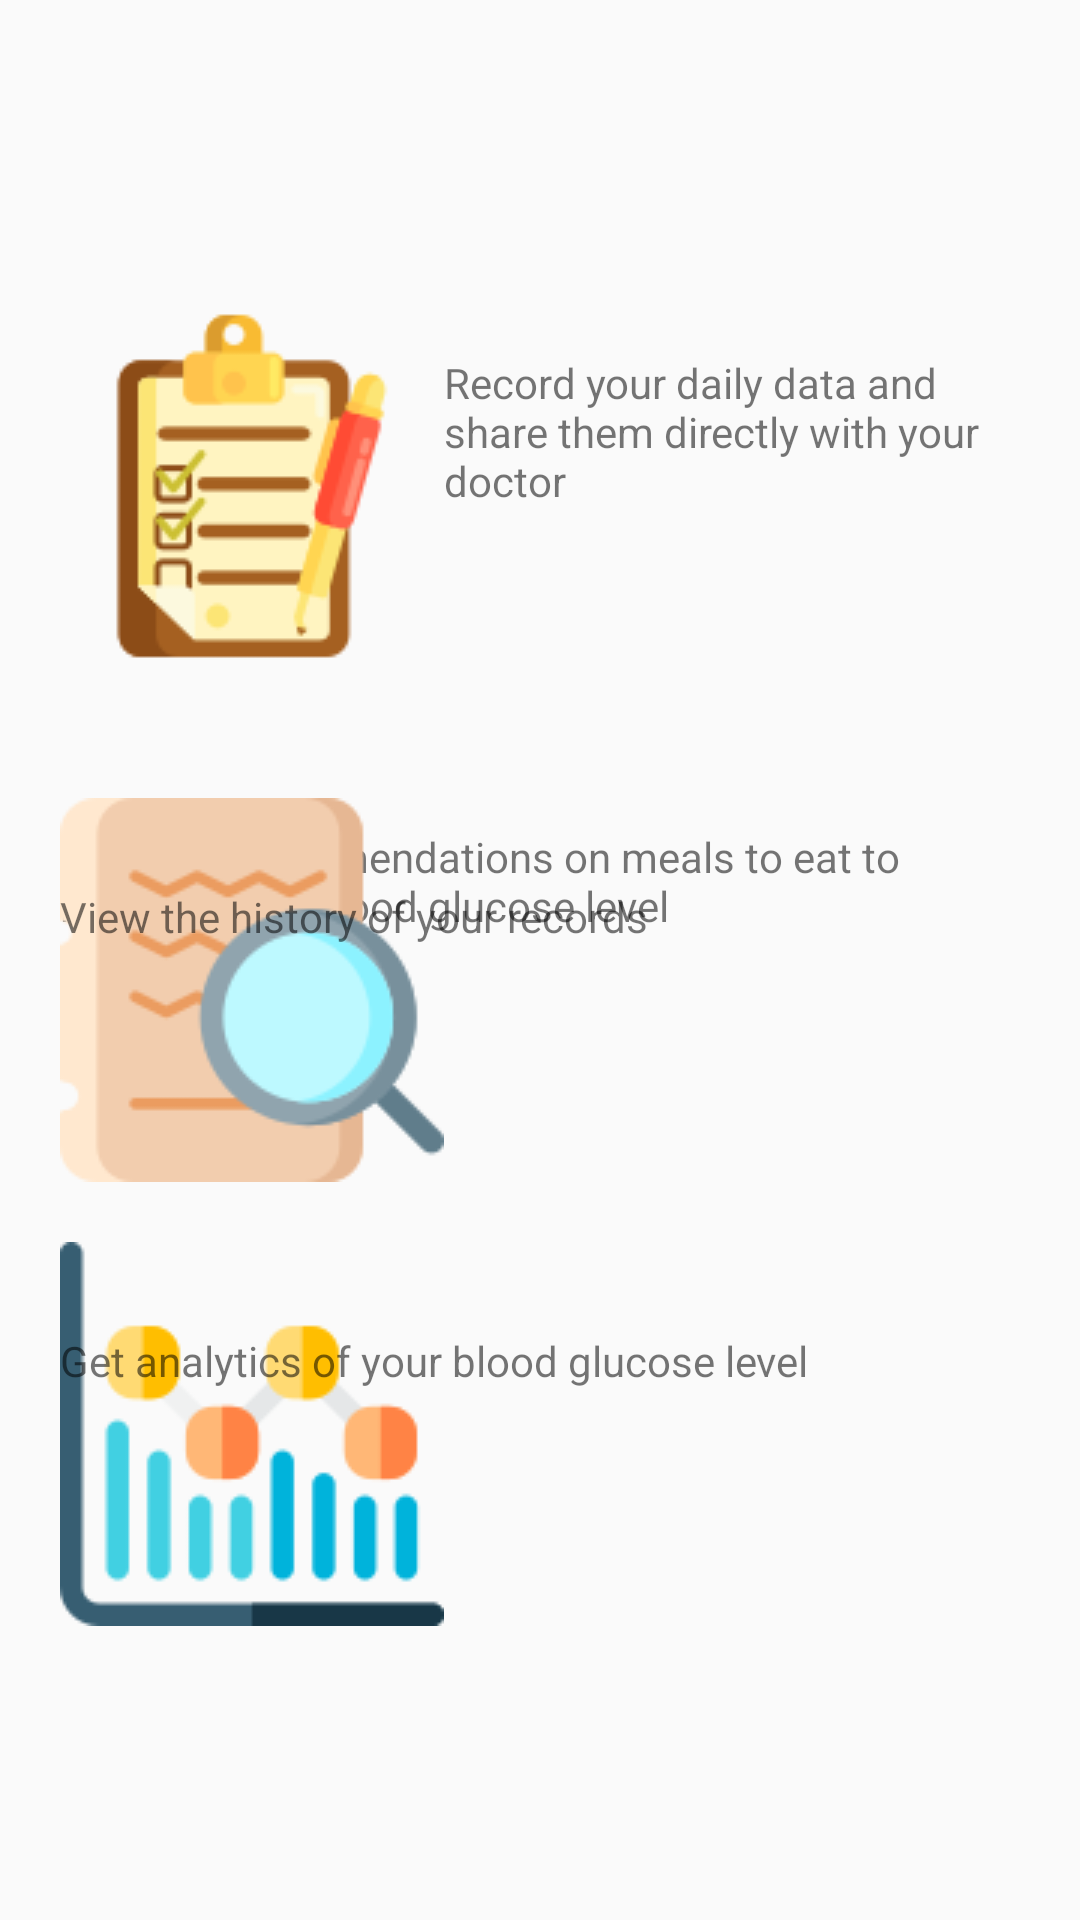

Icons on this 1080px×1920px Android screen, each with the point to tap as point (x, y):
logs: point (251, 486)
